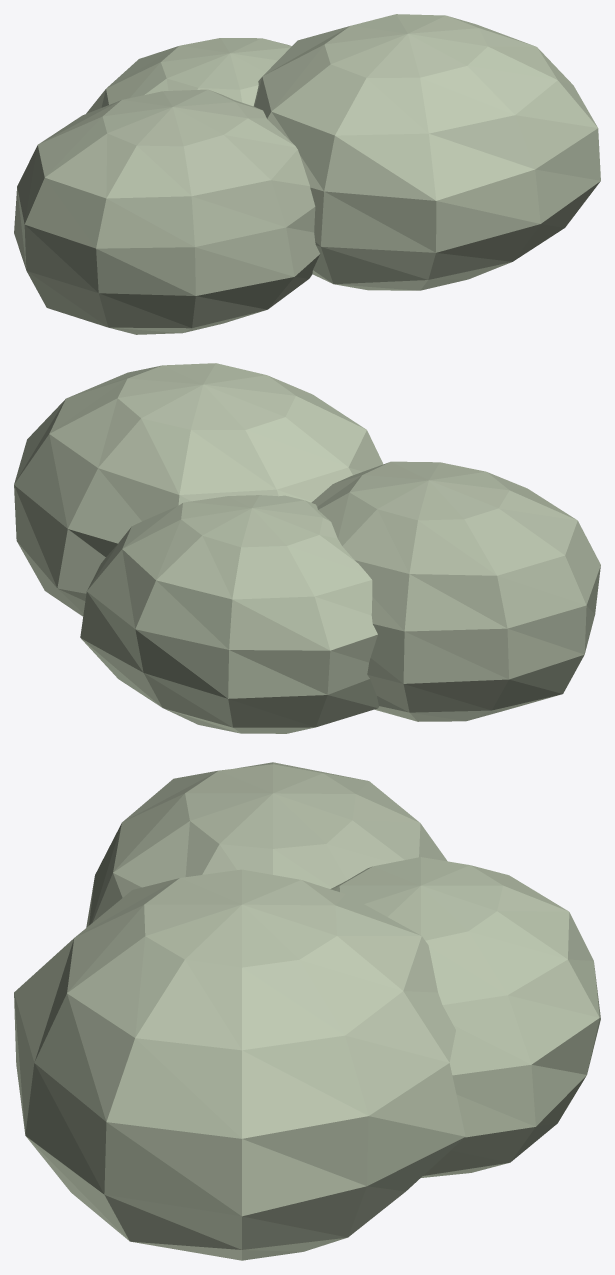
File: shrub-cluster.glb
3 views of the same model, one above another, from view 1: azimuth 30°, elevation 25°; view 2: azimuth 150°, elevation 25°; view 3: azimuth 270°, elevation 25° (orthographic). The views are drawn at different scales.
Parts seen in each view (by area): view 1: shrub-cluster; view 2: shrub-cluster; view 3: shrub-cluster.
Part boxes in pixels (box(x1,y1,x2,y2)): shrub-cluster: box(14, 14, 600, 334); shrub-cluster: box(14, 363, 600, 733); shrub-cluster: box(14, 762, 600, 1260).
Size of the model in its own units: 2200 by 910 by 1510.
